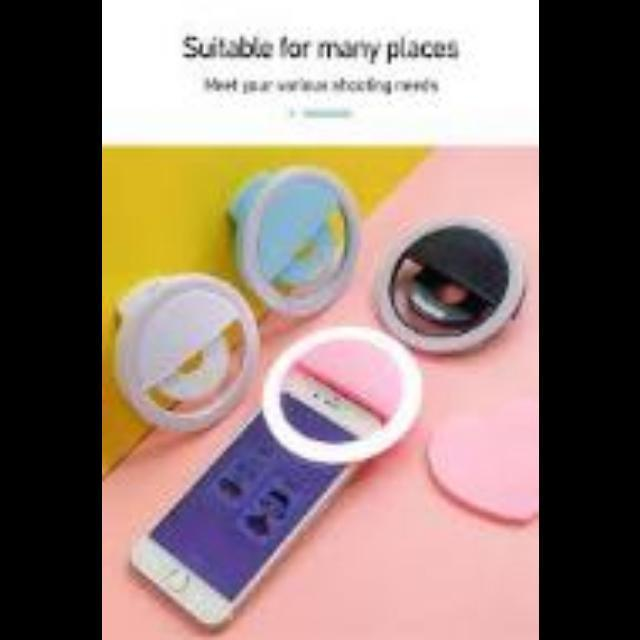PhoneUse: (130, 368, 388, 630)
